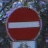No entry: (5, 5, 43, 43)
